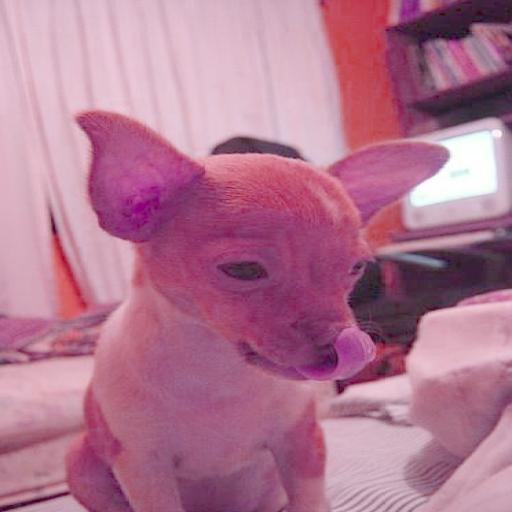dog_face: (73, 108, 428, 379)
